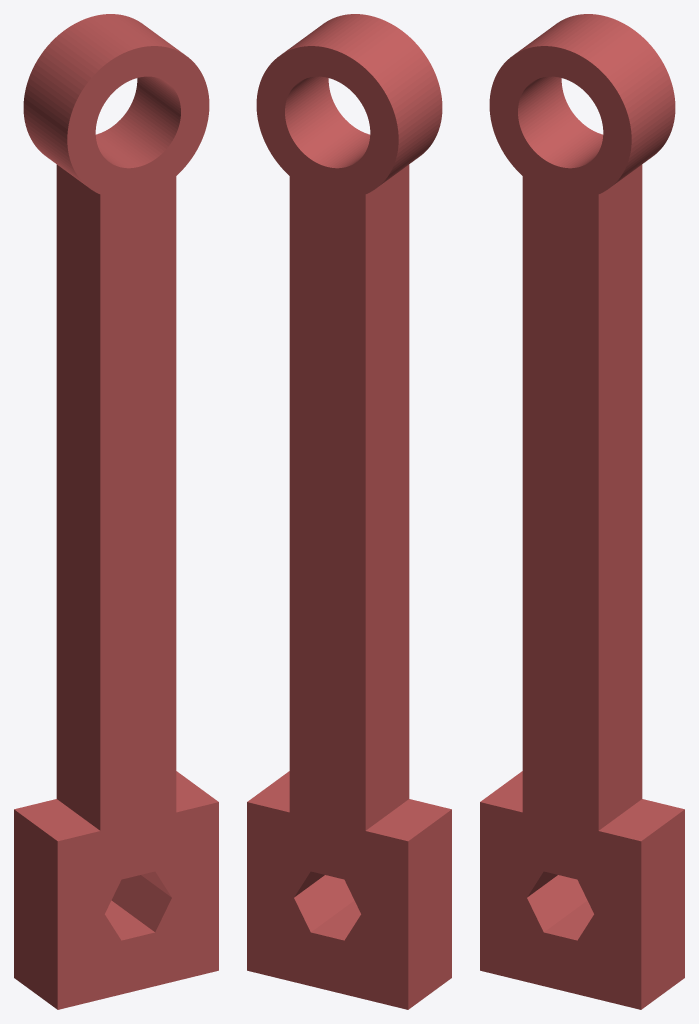
File: ali_palanca.glb
3 views of the same model, side by side, from view 1: azimuth 30°, elevation 25°; view 2: azimuth 150°, elevation 25°; view 3: azimuth 330°, elevation 25° (orthographic).
Parts seen in each view (by area): view 1: world; view 2: world; view 3: world.
Boxes of the visible parts, x1,y1,x2,y2 form: world: (14,14,218,1009); world: (247,14,451,1009); world: (480,14,684,1009).
Size of the model in its own units: 34 by 190 by 16.
